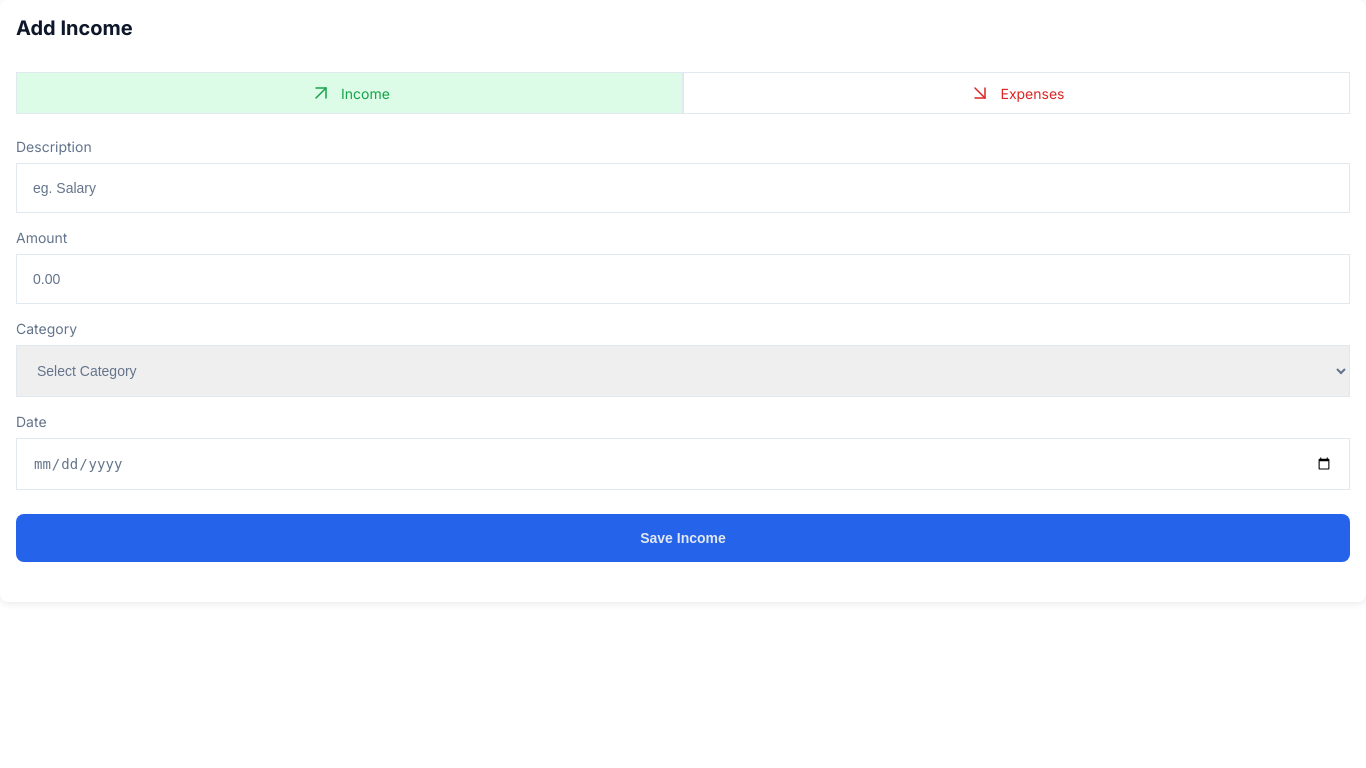
Test: shows a toast when an income transaction is added
Type "salary" into the field labelled "Description".
click(683, 188); type("salary")  # box [16,163,1350,213]
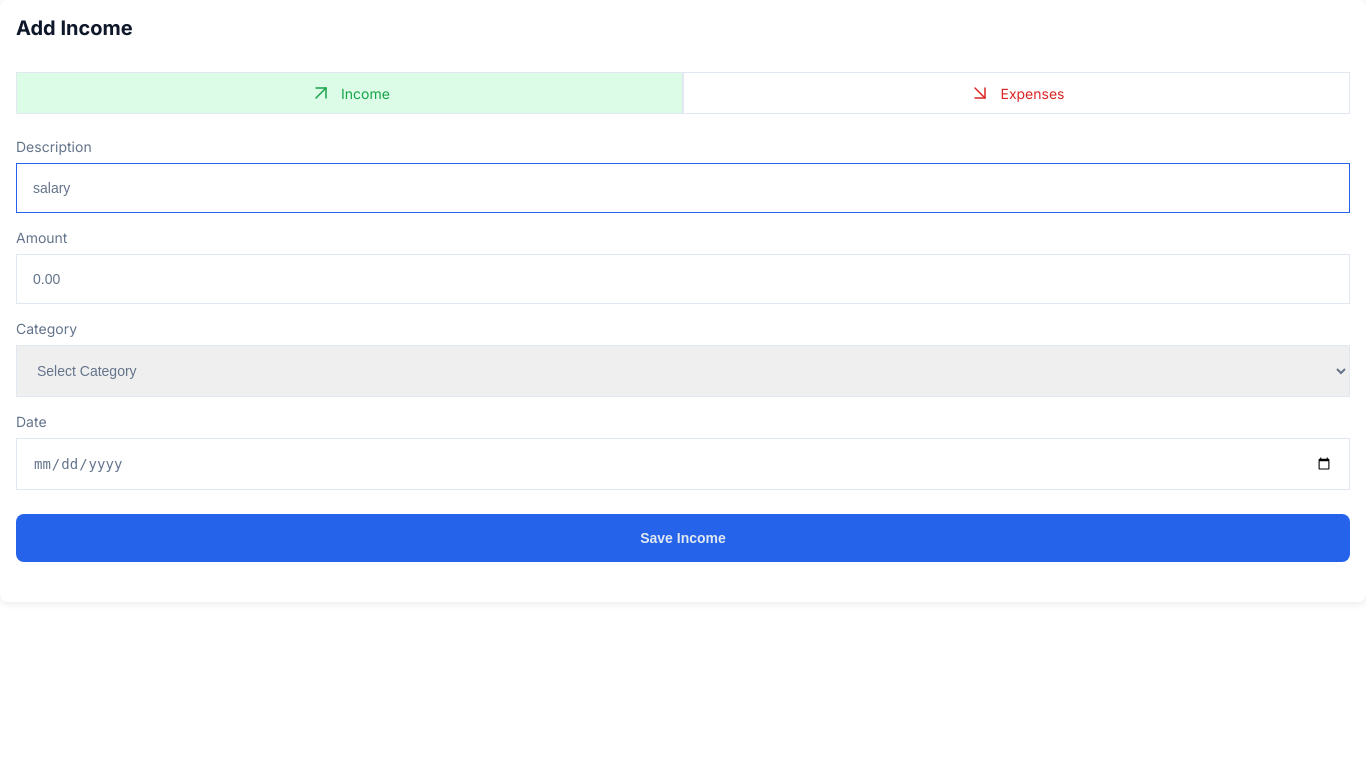
Type "500" into the number field labelled "Amount".
click(683, 279); type("500")  # box [16,254,1350,304]
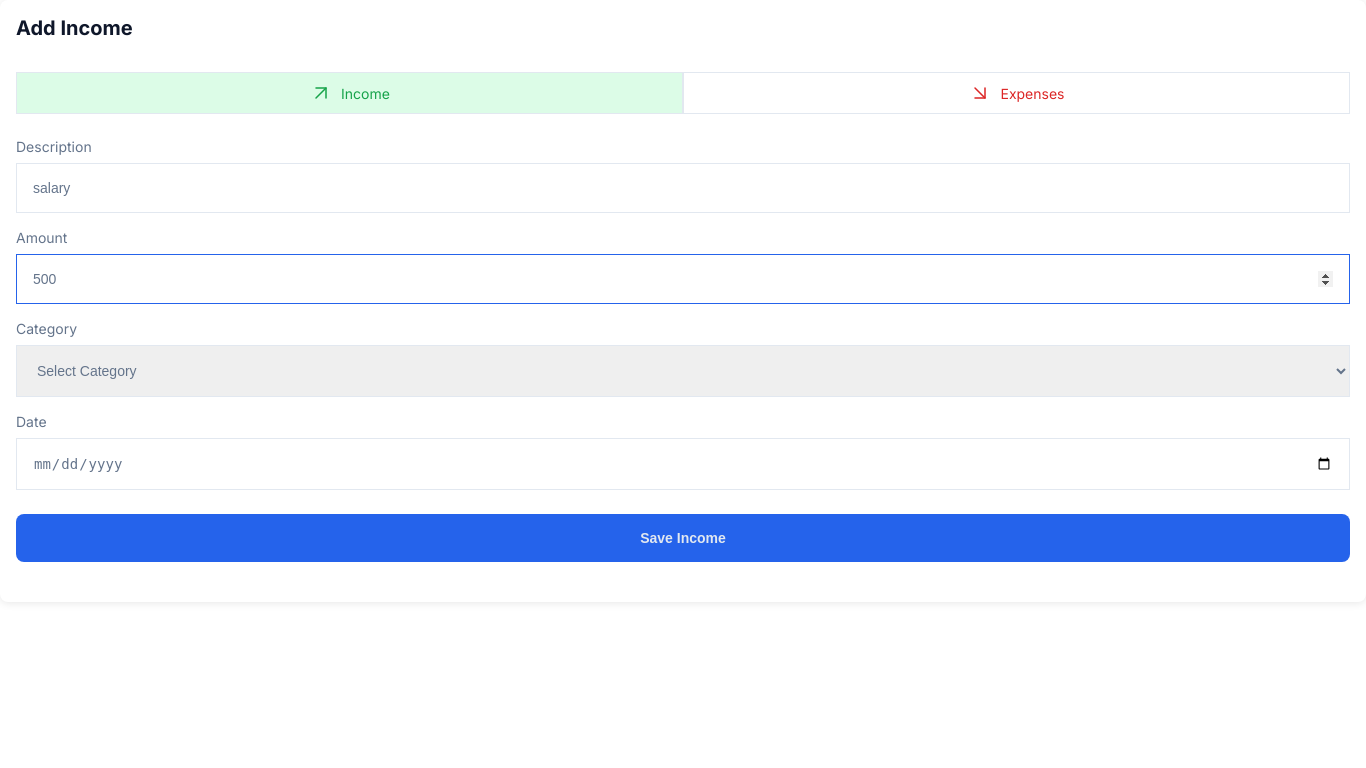
Select "salary" in the dropdown labelled "Category" at (683, 371), box [16,345,1350,397]
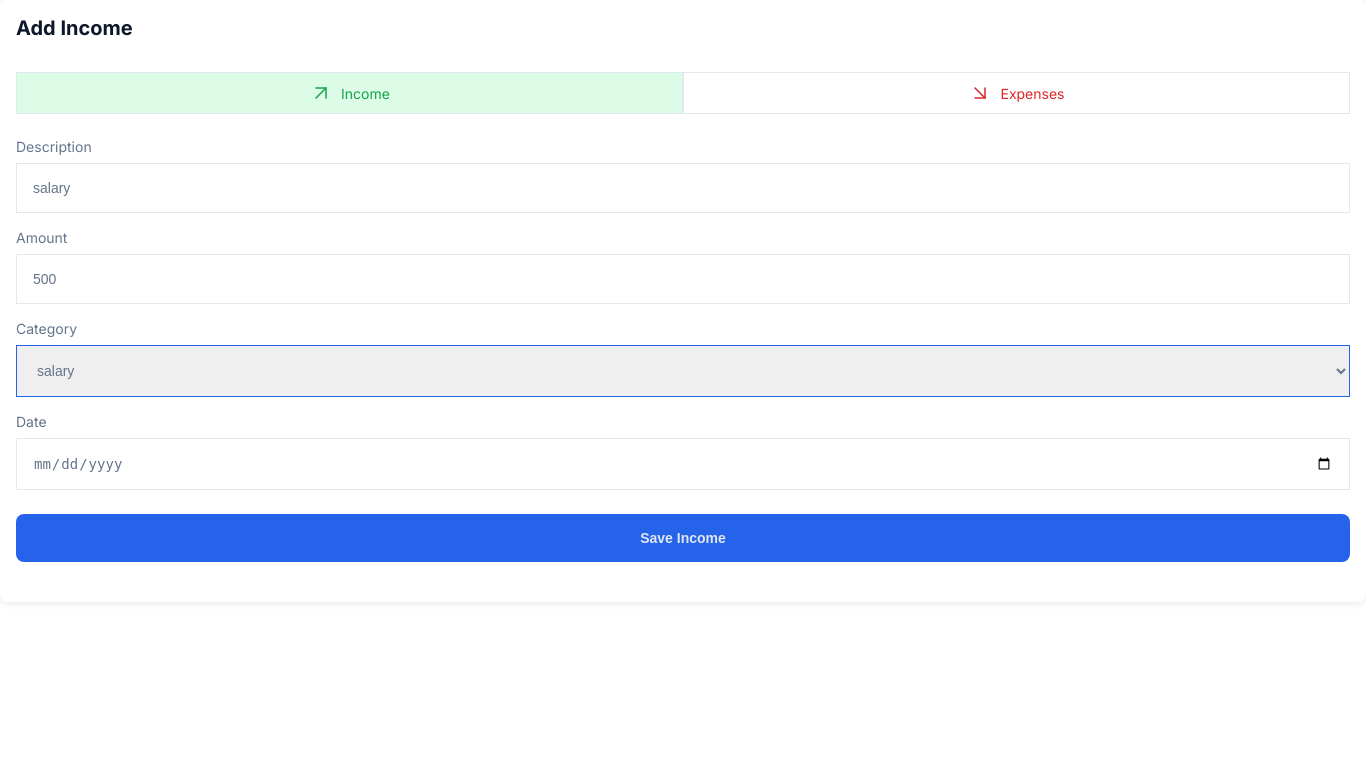
Type "2026-09-10" into the date field labelled "Date".
click(683, 464); type("2026-09-10")  # box [16,438,1350,490]
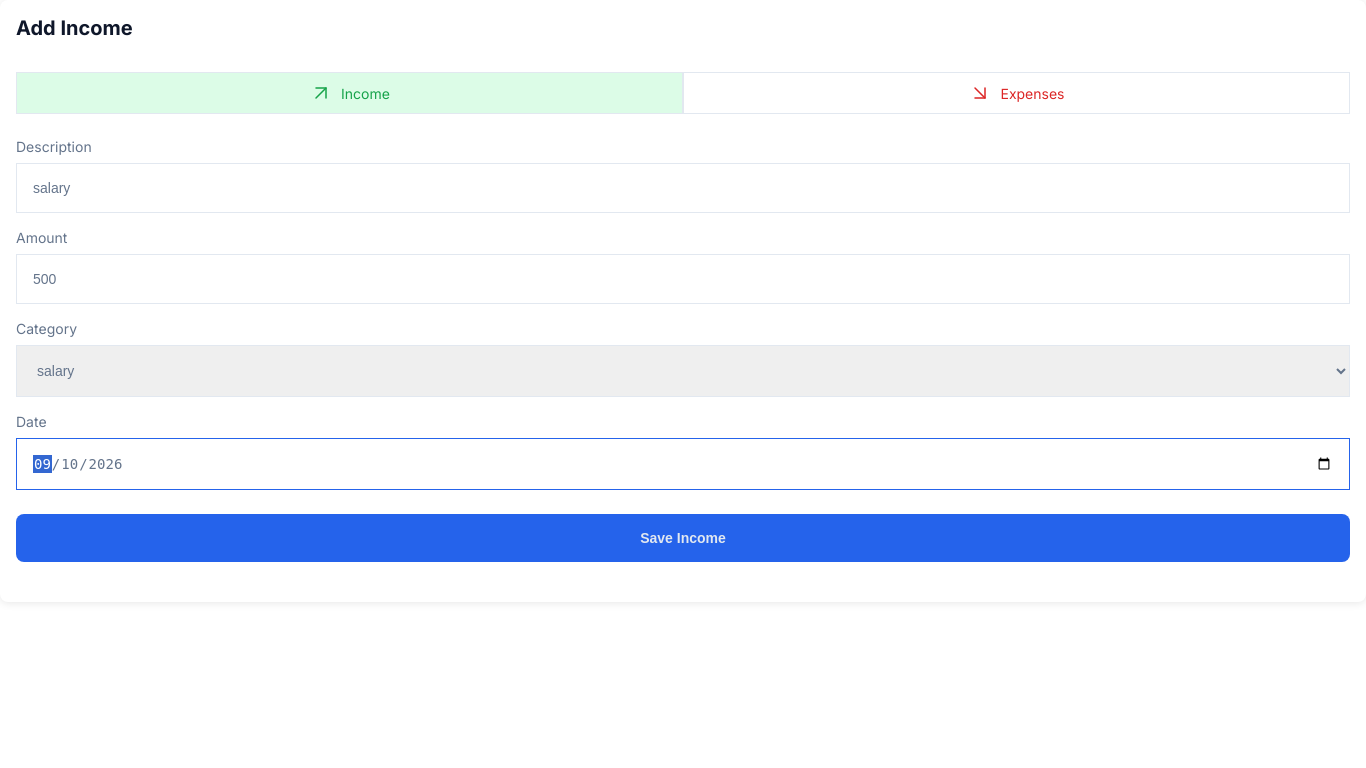
Click the button "Save income".
click(683, 538)  # box [16,514,1350,562]
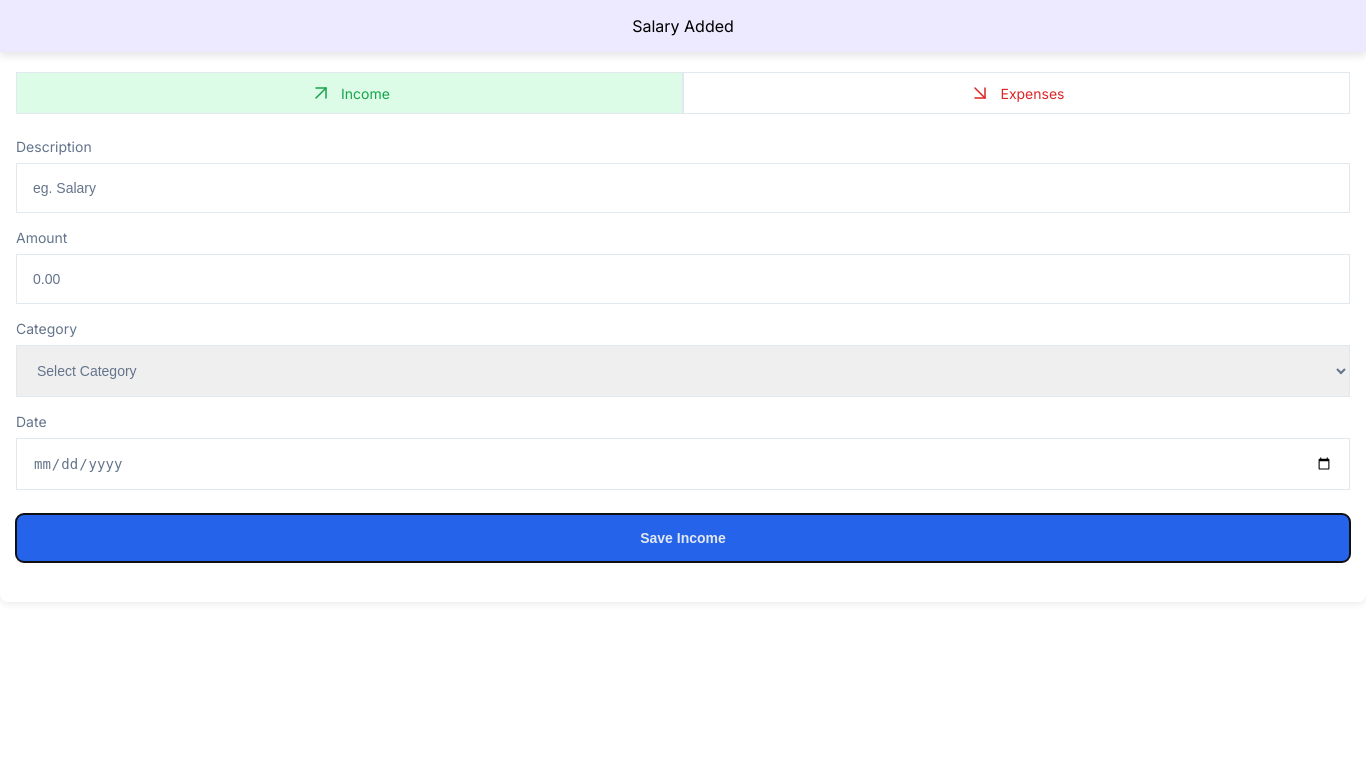
Check: the text "salary added" is shown, box [632,16,734,36]
